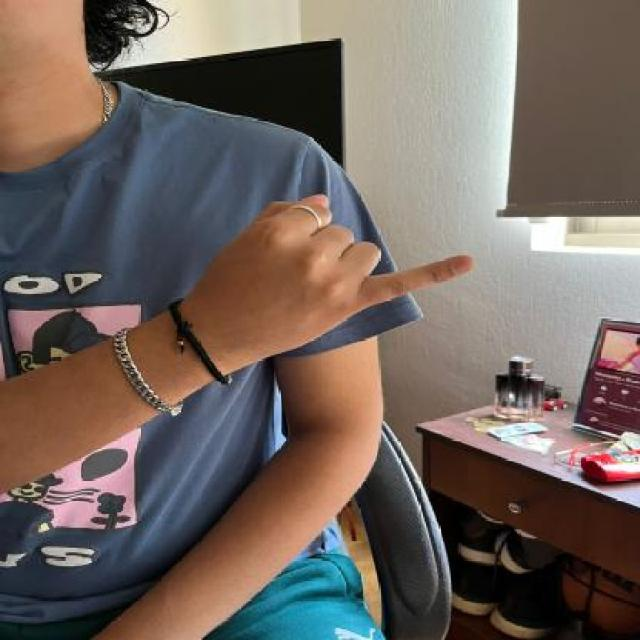J: (185, 182, 480, 367)
